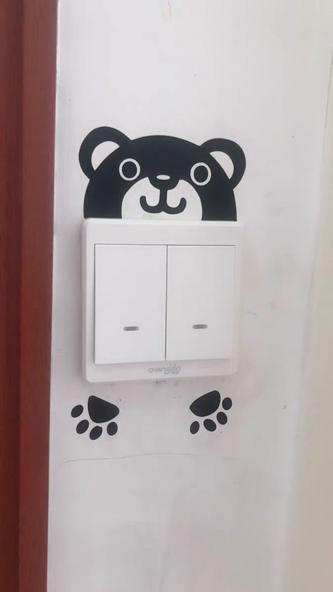switch: (165, 235, 235, 377), (95, 235, 162, 360)
